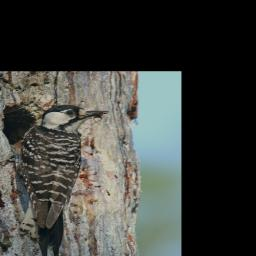Woodpecker: (0, 104, 110, 256)
